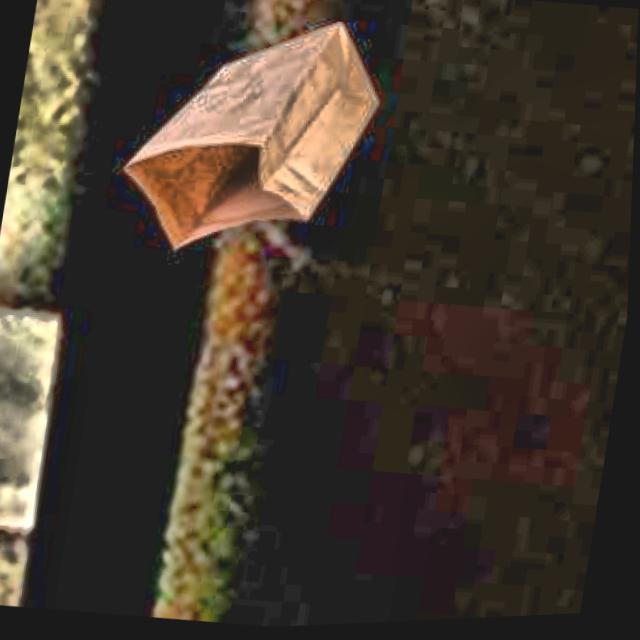Paper-bag: (105, 0, 400, 287)
